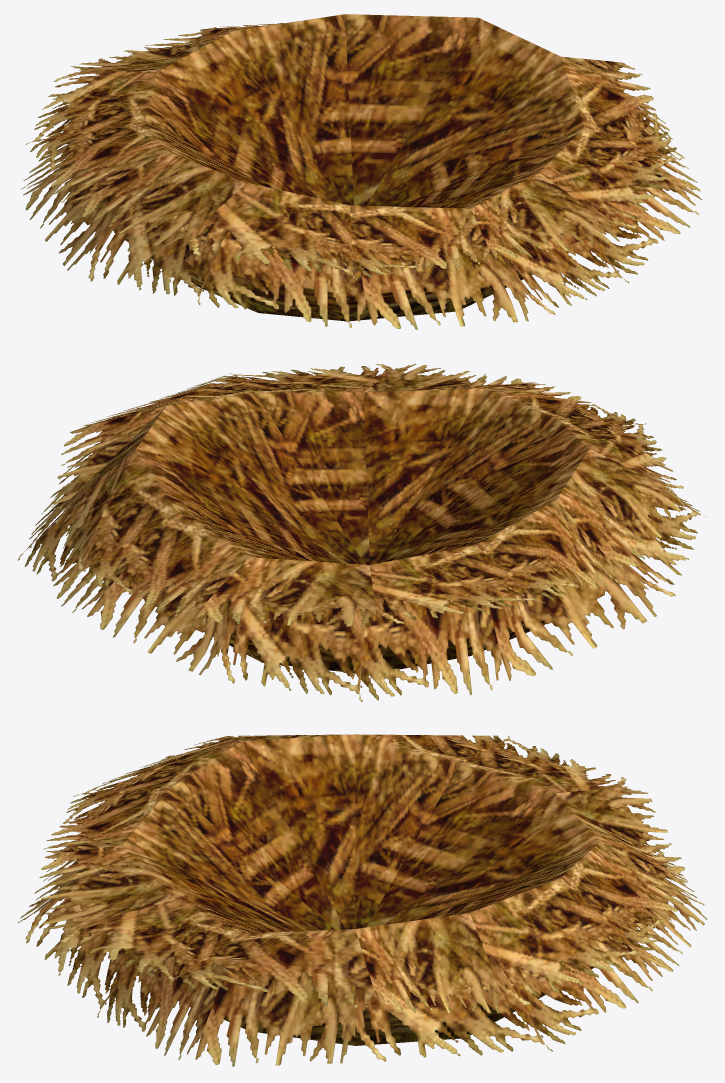
The model's file is EggNest.gltf.
3 views of the same model, one above another, from view 1: azimuth 30°, elevation 25°; view 2: azimuth 150°, elevation 25°; view 3: azimuth 270°, elevation 25° (orthographic).
Parts seen in each view (by area): view 1: EggNestMesh; view 2: EggNestMesh; view 3: EggNestMesh.
Boxes of the visible parts, left/top/right/bottom form: EggNestMesh: left=21, top=14, right=701, bottom=329; EggNestMesh: left=17, top=364, right=705, bottom=701; EggNestMesh: left=18, top=734, right=707, bottom=1066.
Size of the model in its own units: 2.55 by 0.5502 by 2.56.
Materials: 1 (1 with a texture image).
